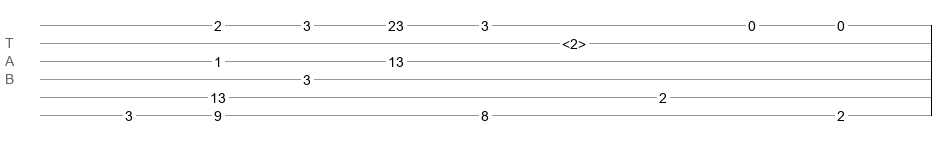0: (748, 18, 756, 28), (837, 18, 845, 28)
1: (214, 54, 222, 64)
13: (210, 90, 226, 100), (388, 54, 404, 64)
2: (214, 18, 222, 28), (659, 90, 667, 100), (837, 108, 845, 118)
23: (388, 18, 404, 28)
3: (125, 108, 133, 118), (303, 72, 311, 82), (303, 18, 311, 28), (481, 18, 489, 28)
8: (481, 108, 489, 118)
9: (214, 108, 222, 118)
harmonic: (562, 36, 586, 46)
